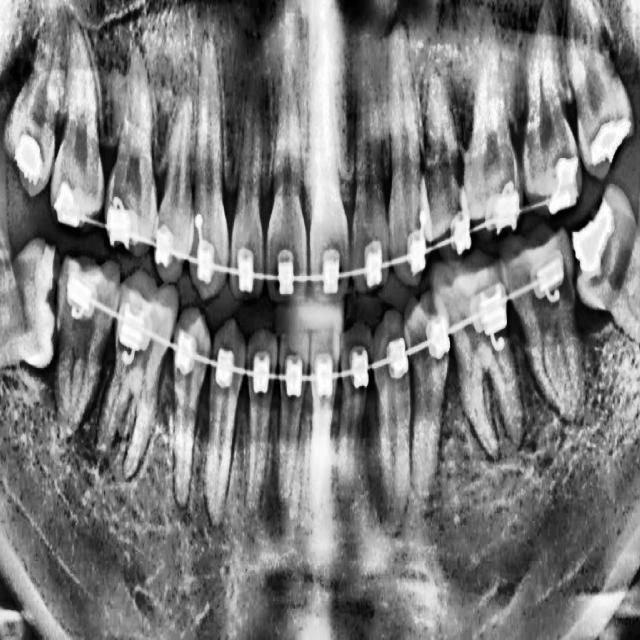Impacted Tooth: (568, 174, 640, 364), (0, 232, 58, 381)
